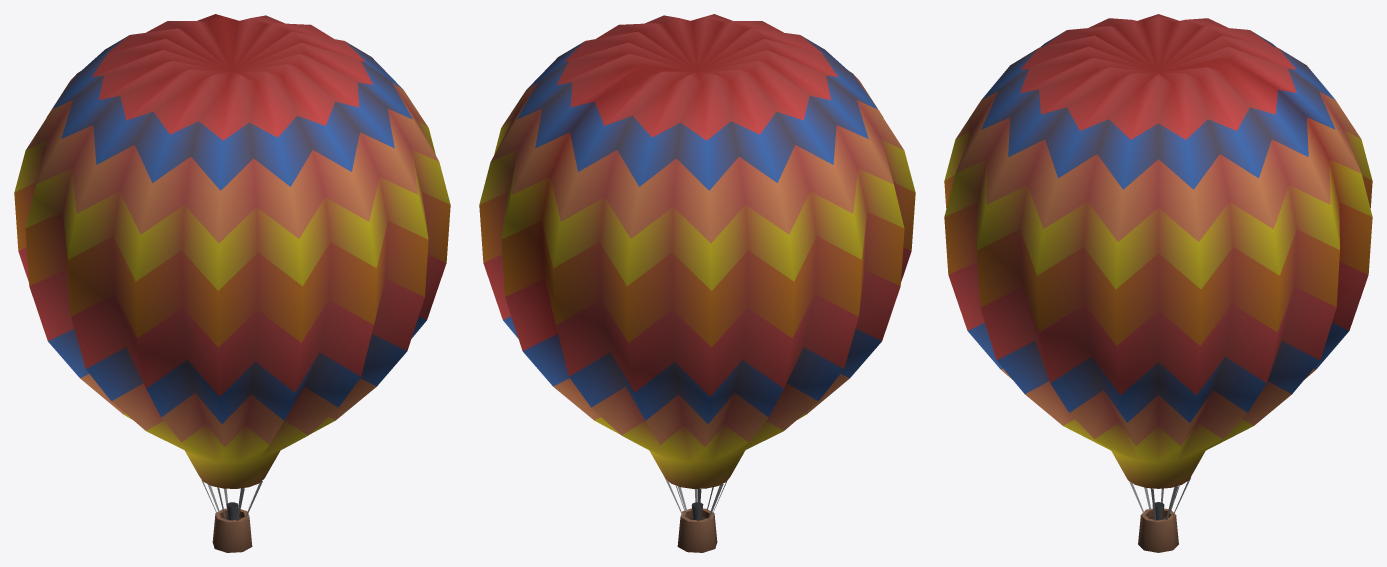
The picture shows the model from 3 angles, left to right: view 1: azimuth 30°, elevation 25°; view 2: azimuth 150°, elevation 25°; view 3: azimuth 270°, elevation 25°; orthographic projection.
Visible parts, largest first — view 1: base.844; view 2: base.844; view 3: base.844.
Boxes of the visible parts, x1,y1,x2,y2 form: base.844: (14,14,450,552); base.844: (479,14,915,552); base.844: (944,14,1372,552).
Size of the model in its own units: 0.3857 by 0.5 by 0.3857.
